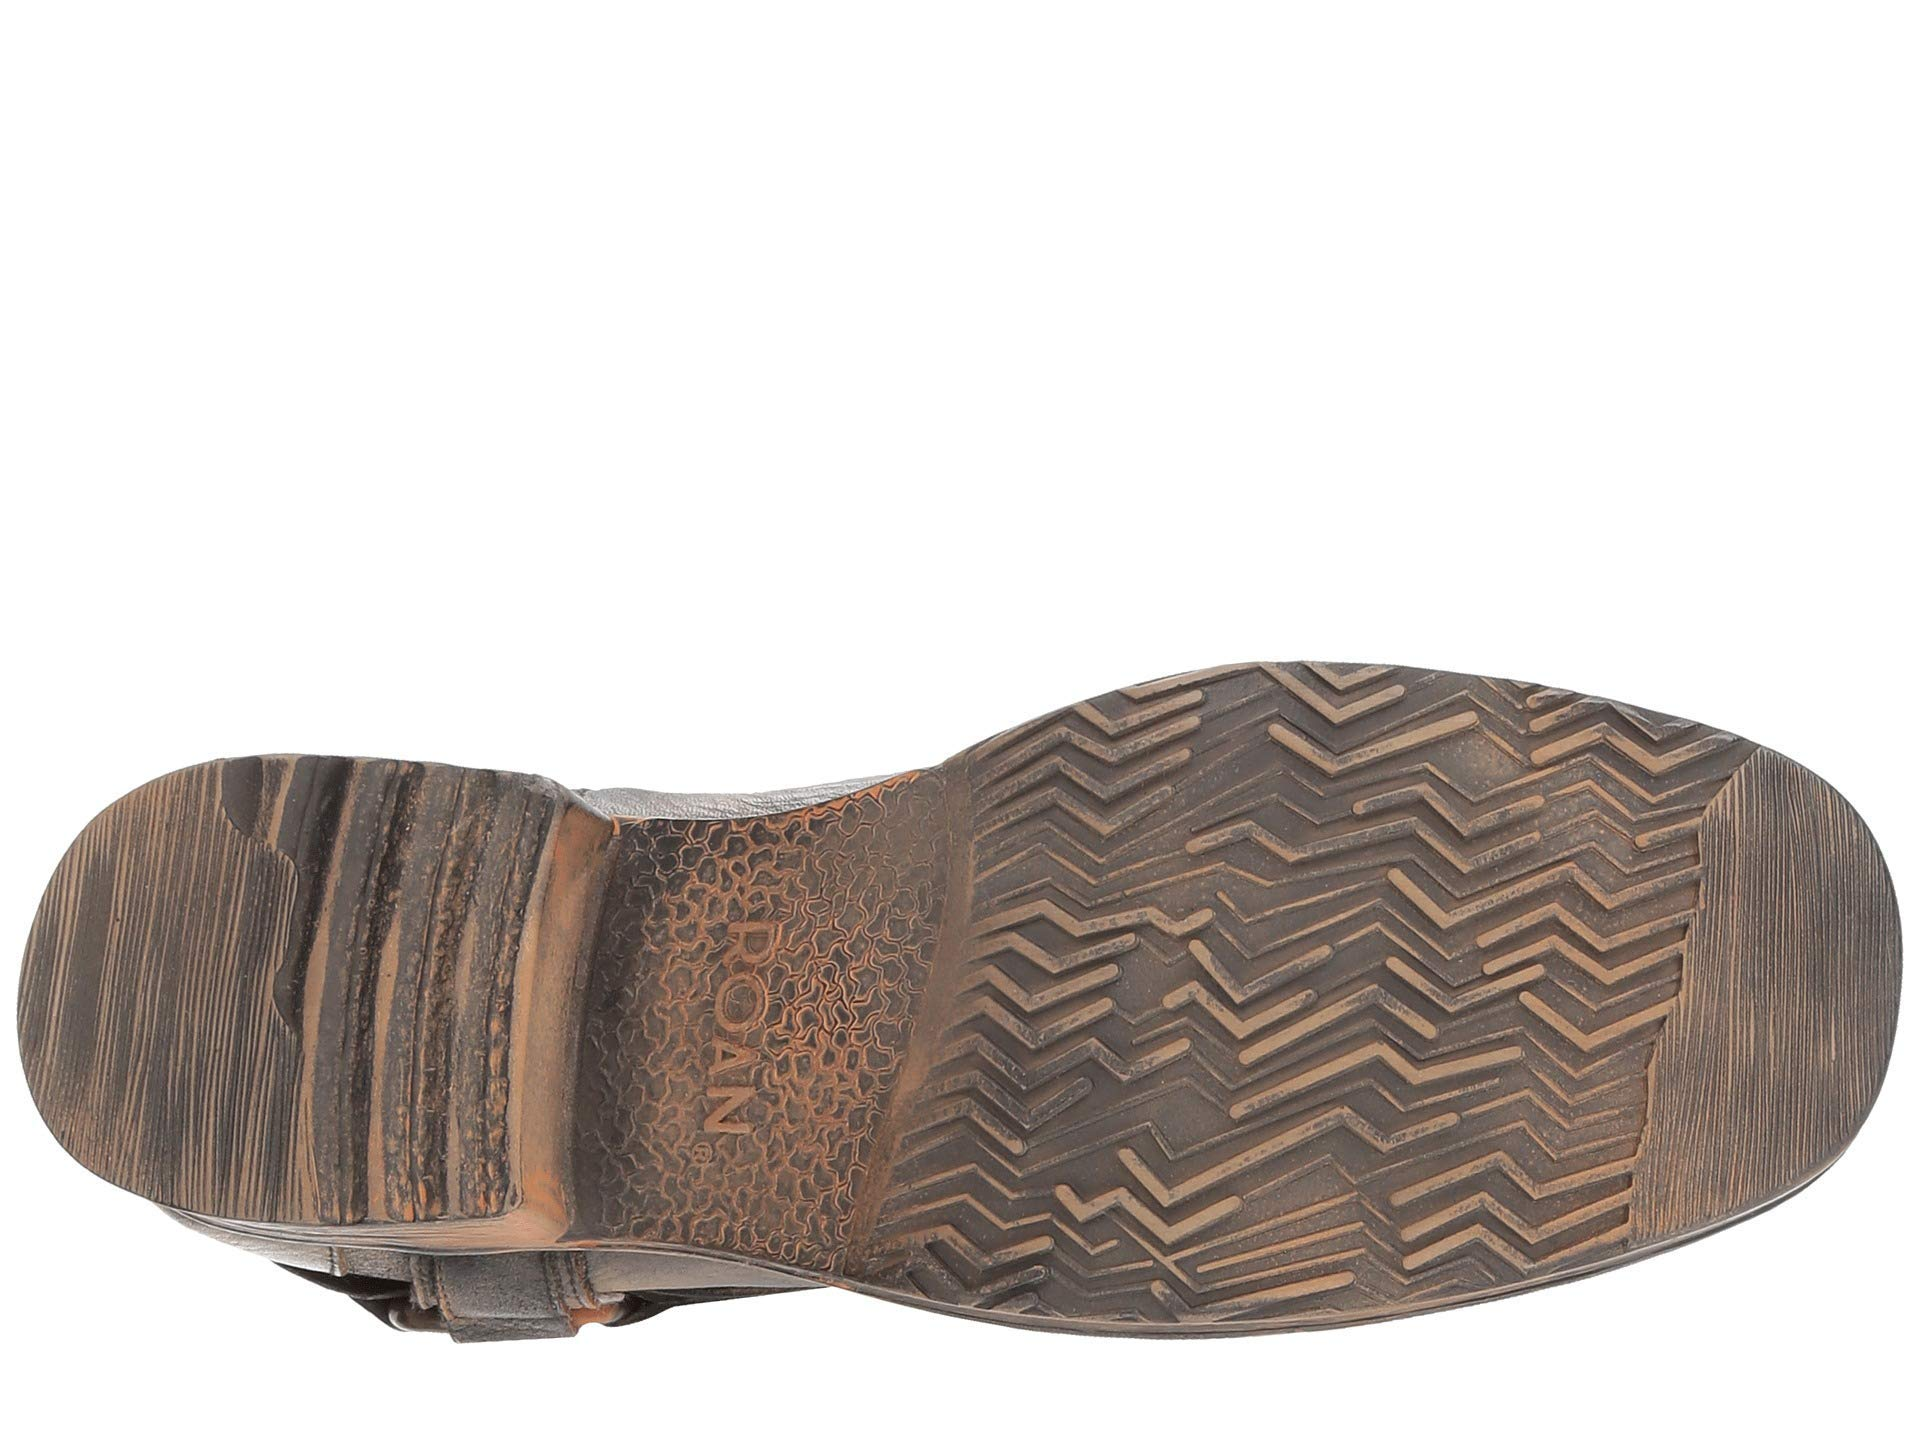chevron: (1016, 717, 1522, 1265)
